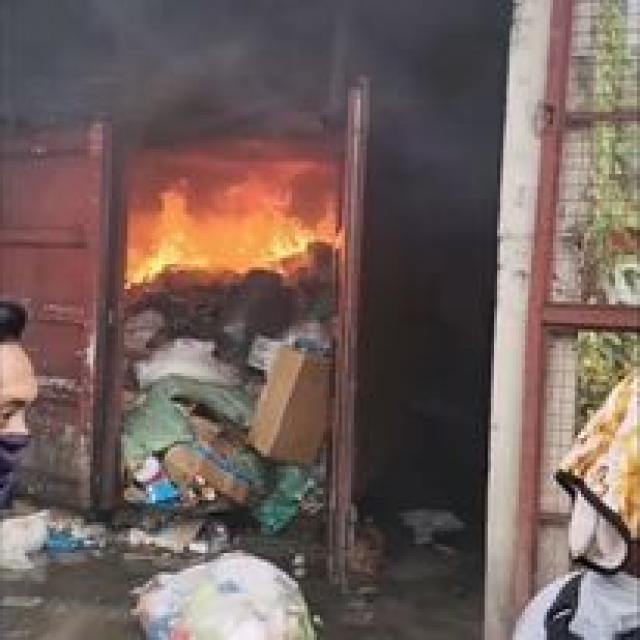Fire: (129, 164, 354, 292)
Smoke: (0, 0, 382, 186)
